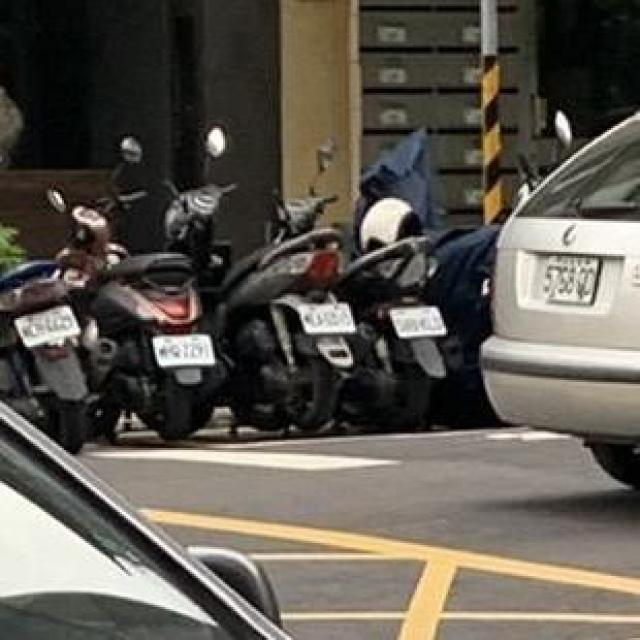W: (534, 250, 610, 308), (8, 299, 83, 349), (144, 328, 221, 370), (293, 297, 359, 339), (386, 299, 448, 343)
